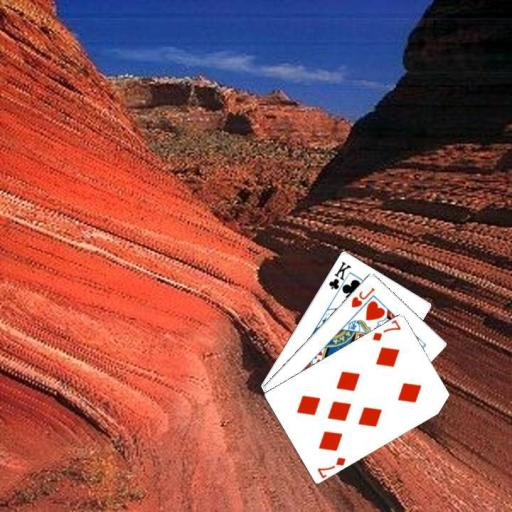7D: (369, 317, 403, 342), (314, 454, 347, 478)
JH: (348, 284, 376, 309)
KC: (326, 258, 353, 297)
